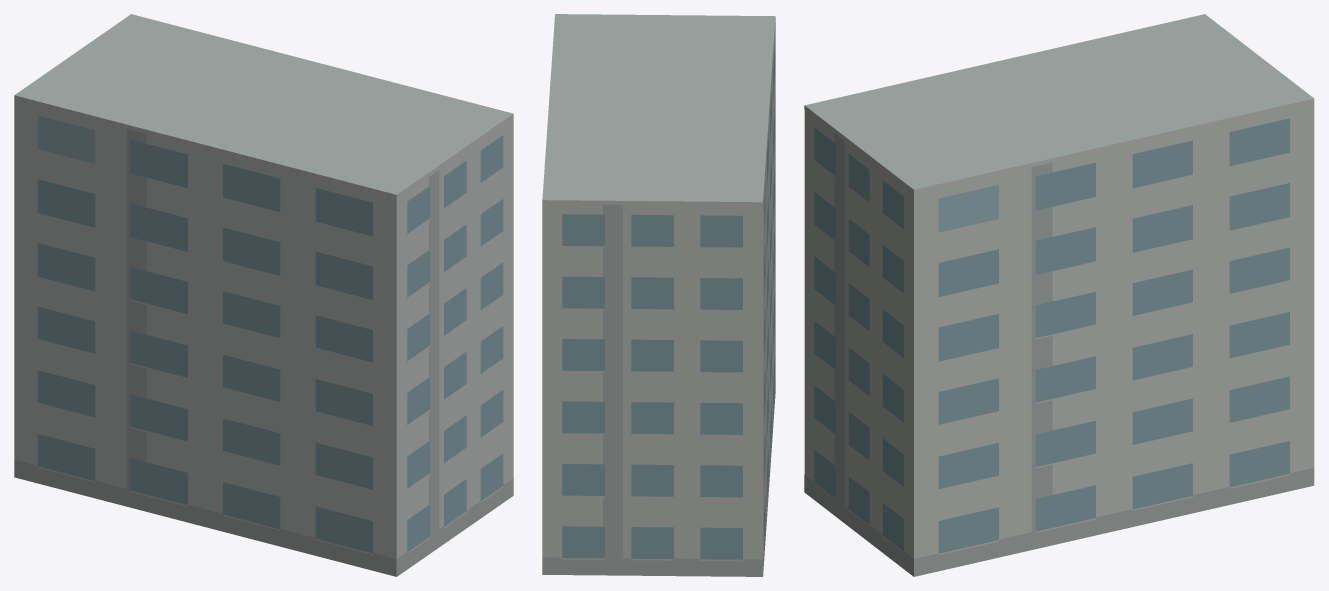
The model's file is survey-upis-32837511.glb.
3 renders of one model, left to right at view 1: azimuth 30°, elevation 25°; view 2: azimuth 150°, elevation 25°; view 3: azimuth 270°, elevation 25°, orthographic. The views are drawn at different scales.
Visible parts, largest first — view 1: survey-upis-32837511.tmp; view 2: survey-upis-32837511.tmp; view 3: survey-upis-32837511.tmp.
Part boxes in pixels (x1,y1,x2,y2): survey-upis-32837511.tmp: (14,14,513,576); survey-upis-32837511.tmp: (542,14,775,576); survey-upis-32837511.tmp: (804,14,1314,576).
Bounding box in the file's own units: 20.61 × 21.15 × 25.26.
